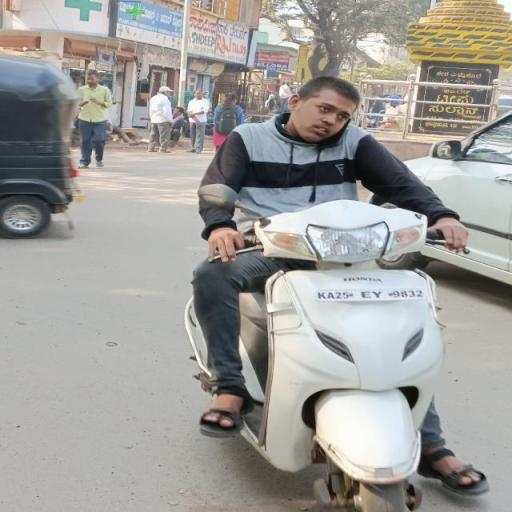using mobile: (328, 114, 358, 155)
